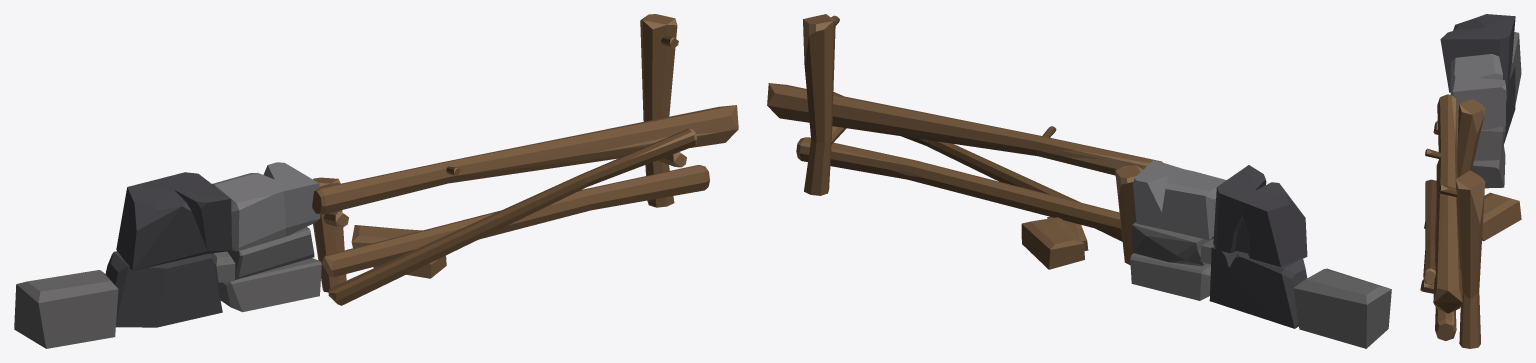
The model's file is EM_rock_fence7.fbx.
3 views of the same model, side by side, from view 1: azimuth 30°, elevation 25°; view 2: azimuth 150°, elevation 25°; view 3: azimuth 270°, elevation 25° (orthographic). The views are drawn at different scales.
Parts seen in each view (by area): view 1: EM_rock_fence7_LOD0; view 2: EM_rock_fence7_LOD0; view 3: EM_rock_fence7_LOD0.
Boxes of the visible parts, left/top/right/bottom form: EM_rock_fence7_LOD0: left=14, top=14, right=738, bottom=348; EM_rock_fence7_LOD0: left=767, top=14, right=1391, bottom=348; EM_rock_fence7_LOD0: left=1420, top=14, right=1521, bottom=348.
Size of what is drawn, in the model's own units: 5.42 by 1.43 by 0.7832.
